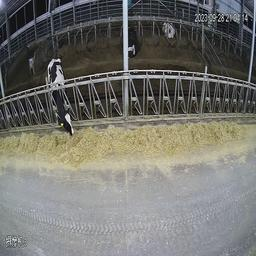cow: (46, 61, 77, 140), (128, 26, 142, 57), (160, 17, 177, 38)
